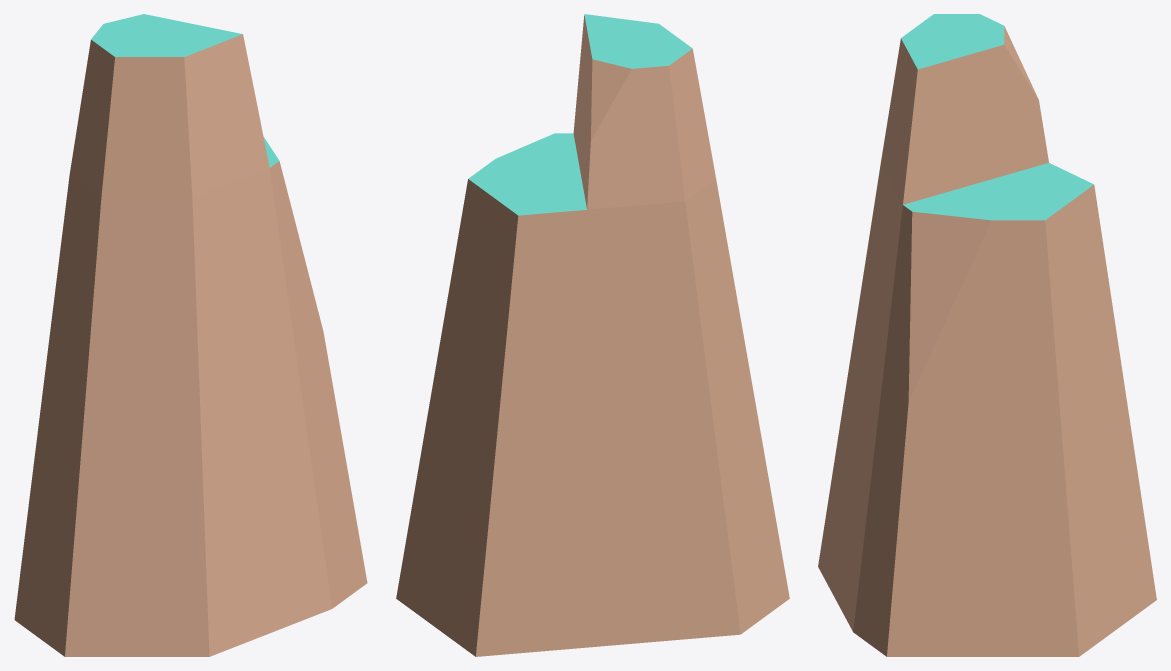
The model's file is rock_tallI.glb.
The picture shows the model from 3 angles, left to right: view 1: azimuth 30°, elevation 25°; view 2: azimuth 150°, elevation 25°; view 3: azimuth 270°, elevation 25°; orthographic projection. The views are drawn at different scales.
Visible parts, largest first — view 1: rock_tallI; view 2: rock_tallI; view 3: rock_tallI.
Boxes of the visible parts, x1=… form: rock_tallI: x1=14, y1=14, x2=367, y2=656; rock_tallI: x1=396, y1=14, x2=789, y2=656; rock_tallI: x1=818, y1=14, x2=1156, y2=656.
Size of the model in its own units: 0.4562 by 0.8118 by 0.4644.
